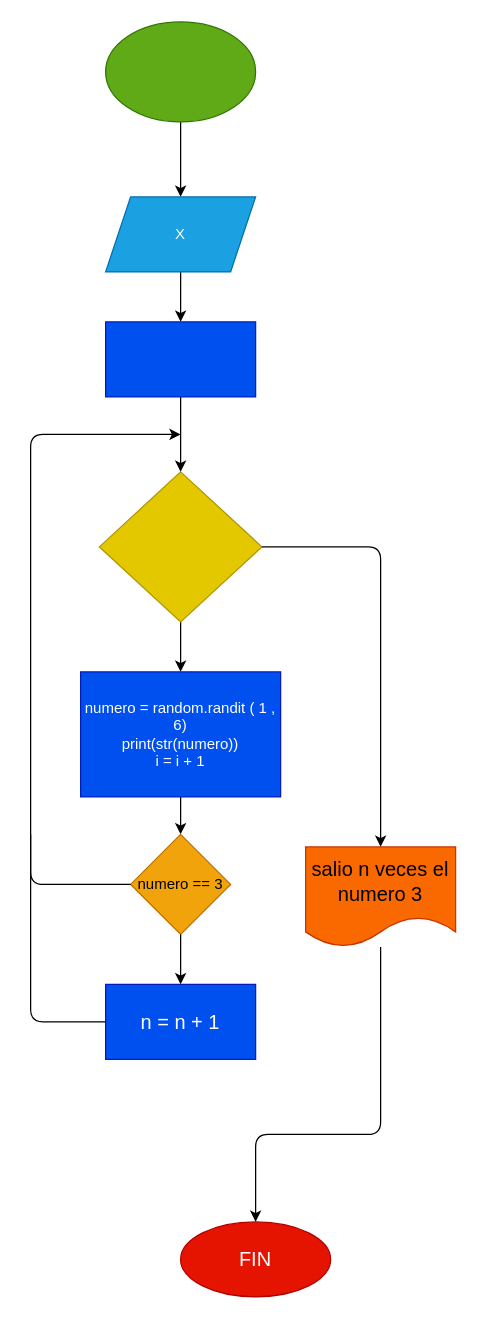
Image size: 478x1319. Some labels were removed from this diagram. Each missing label, with the centre of its shape:
"i <= 10" belongs at point 180,546.
"i = 1 n = 0" belongs at point 180,359.
"INICIO" belongs at point 180,71.
